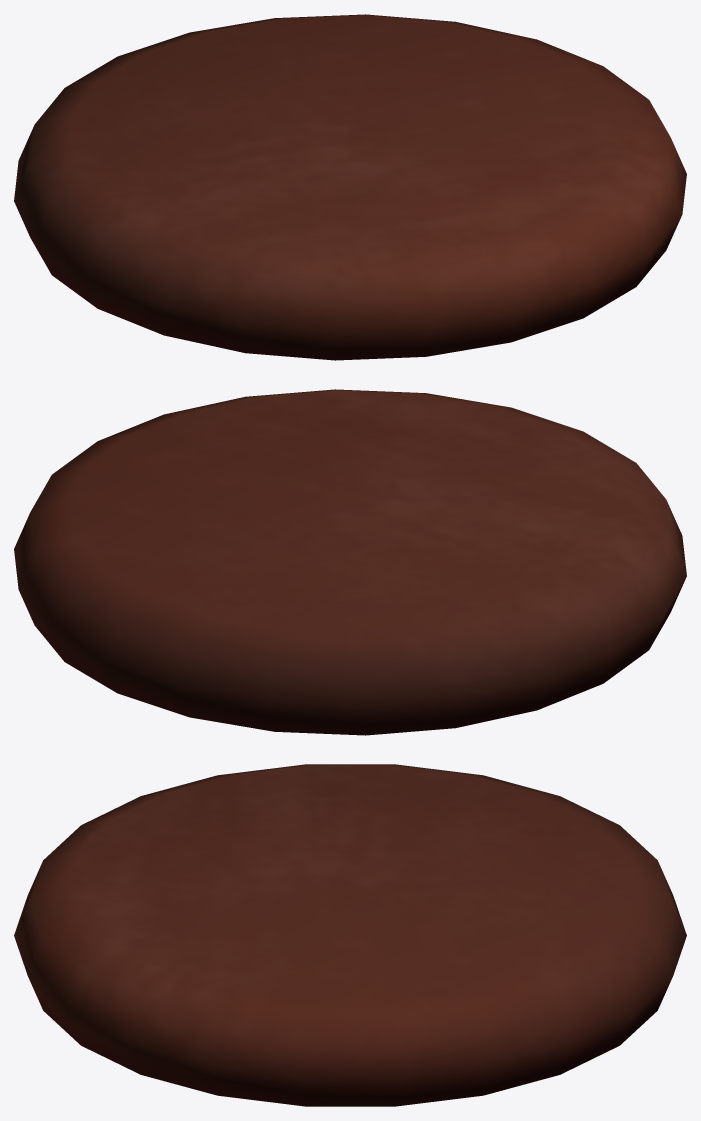
The model's file is BurgerMeatCooked.fbx.
The picture shows the model from 3 angles, top to bottom: view 1: azimuth 30°, elevation 25°; view 2: azimuth 150°, elevation 25°; view 3: azimuth 270°, elevation 25°; orthographic projection.
Parts seen in each view (by area): view 1: Patty.Cooked; view 2: Patty.Cooked; view 3: Patty.Cooked.
Boxes of the visible parts, x1,y1,x2,y2 form: Patty.Cooked: (14, 14, 686, 360); Patty.Cooked: (14, 389, 686, 735); Patty.Cooked: (14, 764, 686, 1106).
Bounding box in the file's own units: 42.35 × 7.35 × 42.78.
